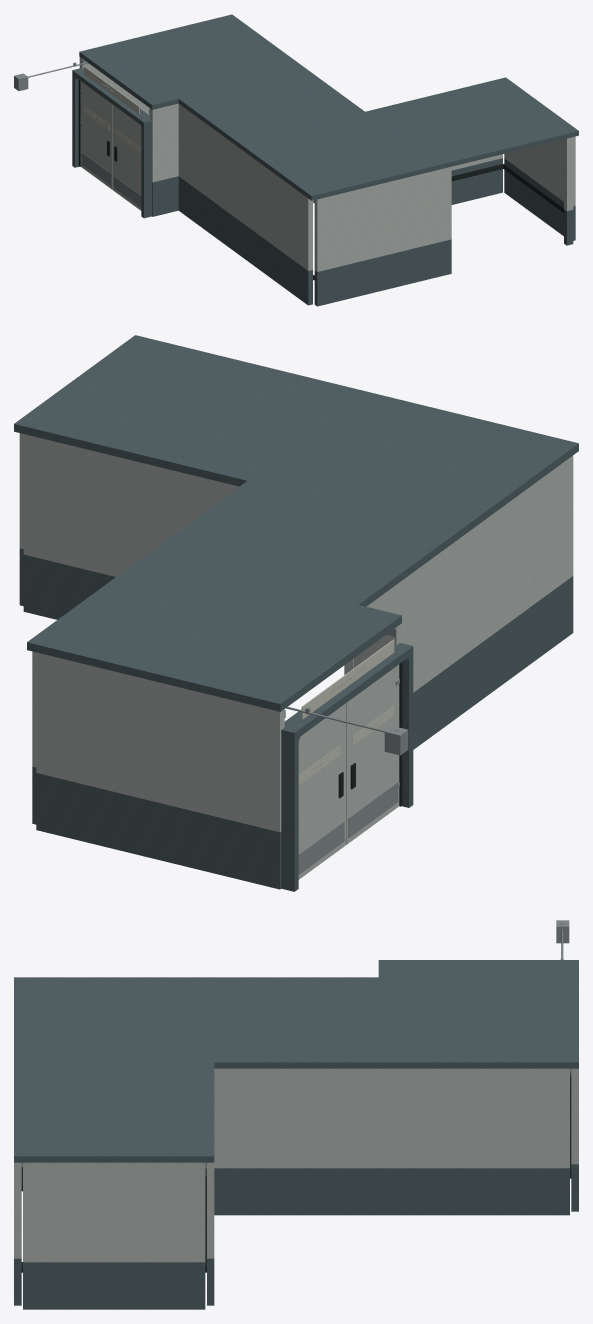
The model's file is AST-STF-010_home_dogleg.glb.
3 views of the same model, one above another, from view 1: azimuth 30°, elevation 25°; view 2: azimuth 150°, elevation 25°; view 3: azimuth 270°, elevation 25° (orthographic). The views are drawn at different scales.
Parts seen in each view (by area): view 1: HOME_BATCH_000_ASTRAEA_staff_bluegrey_paint, HOME_BATCH_007_ASTRAEA_staff_white_paint, HOME_BATCH_001_ASTRAEA_staff_bluegrey_paint, HOME_BATCH_008_ASTRAEA_staff_white_paint, HOME_BATCH_014_ASTRAEA_staff_bluegrey_paint, HOME_BATCH_019_ASTRAEA_staff_white_paint, HOME_BATCH_025_ASTRAEA_staff_white_paint, HOME_BATCH_005_ASTRAEA_staff_rubber, HOME_BATCH_002_ASTRAEA_staff_label, HOME_BATCH_021_ASTRAEA_staff_zinc; view 2: HOME_BATCH_000_ASTRAEA_staff_bluegrey_paint, HOME_BATCH_007_ASTRAEA_staff_white_paint, HOME_BATCH_008_ASTRAEA_staff_white_paint, HOME_BATCH_014_ASTRAEA_staff_bluegrey_paint, HOME_BATCH_025_ASTRAEA_staff_white_paint, HOME_BATCH_019_ASTRAEA_staff_white_paint, HOME_BATCH_001_ASTRAEA_staff_bluegrey_paint, HOME_BATCH_002_ASTRAEA_staff_label, HOME_BATCH_027_ASTRAEA_staff_zinc, HOME_BATCH_021_ASTRAEA_staff_zinc, HOME_BATCH_012_ASTRAEA_staff_zinc; view 3: HOME_BATCH_000_ASTRAEA_staff_bluegrey_paint, HOME_BATCH_007_ASTRAEA_staff_white_paint, HOME_BATCH_008_ASTRAEA_staff_white_paint, HOME_BATCH_001_ASTRAEA_staff_bluegrey_paint.
Boxes of the visible parts, x1,y1,x2,y2 form: HOME_BATCH_000_ASTRAEA_staff_bluegrey_paint: (79, 14, 578, 306); HOME_BATCH_007_ASTRAEA_staff_white_paint: (79, 57, 470, 271); HOME_BATCH_001_ASTRAEA_staff_bluegrey_paint: (471, 158, 575, 245); HOME_BATCH_008_ASTRAEA_staff_white_paint: (471, 136, 575, 210); HOME_BATCH_014_ASTRAEA_staff_bluegrey_paint: (72, 68, 151, 218); HOME_BATCH_019_ASTRAEA_staff_white_paint: (80, 81, 112, 189); HOME_BATCH_025_ASTRAEA_staff_white_paint: (113, 105, 141, 210); HOME_BATCH_005_ASTRAEA_staff_rubber: (471, 164, 563, 218); HOME_BATCH_002_ASTRAEA_staff_label: (83, 66, 139, 114); HOME_BATCH_021_ASTRAEA_staff_zinc: (81, 152, 111, 185); HOME_BATCH_000_ASTRAEA_staff_bluegrey_paint: (14, 335, 578, 889); HOME_BATCH_007_ASTRAEA_staff_white_paint: (32, 447, 573, 832); HOME_BATCH_008_ASTRAEA_staff_white_paint: (19, 433, 76, 567); HOME_BATCH_014_ASTRAEA_staff_bluegrey_paint: (281, 643, 413, 891); HOME_BATCH_025_ASTRAEA_staff_white_paint: (346, 664, 399, 844); HOME_BATCH_019_ASTRAEA_staff_white_paint: (298, 703, 345, 879); HOME_BATCH_001_ASTRAEA_staff_bluegrey_paint: (19, 548, 76, 619); HOME_BATCH_002_ASTRAEA_staff_label: (301, 639, 394, 719); HOME_BATCH_027_ASTRAEA_staff_zinc: (348, 782, 398, 838); HOME_BATCH_021_ASTRAEA_staff_zinc: (298, 821, 344, 874); HOME_BATCH_012_ASTRAEA_staff_zinc: (286, 706, 408, 755); HOME_BATCH_000_ASTRAEA_staff_bluegrey_paint: (14, 960, 578, 1215); HOME_BATCH_007_ASTRAEA_staff_white_paint: (205, 1068, 578, 1168); HOME_BATCH_008_ASTRAEA_staff_white_paint: (14, 1162, 214, 1262); HOME_BATCH_001_ASTRAEA_staff_bluegrey_paint: (14, 1258, 214, 1309).
Bounding box in the file's own units: 11.33 × 3.34 × 11.16.
Materials: 6 (6 with a texture image).
